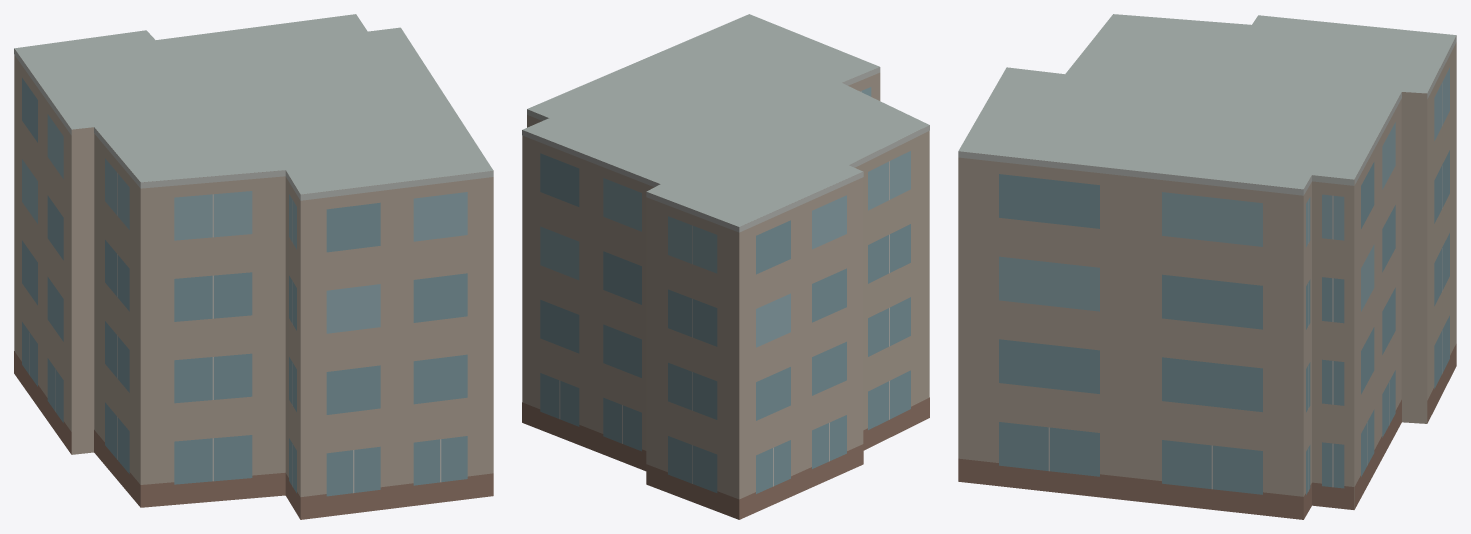
File: survey-upis-32894420.glb
3 renders of one model, left to right at view 1: azimuth 30°, elevation 25°; view 2: azimuth 150°, elevation 25°; view 3: azimuth 270°, elevation 25°, orthographic. The views are drawn at different scales.
Parts seen in each view (by area): view 1: survey-upis-32894420.tmp; view 2: survey-upis-32894420.tmp; view 3: survey-upis-32894420.tmp.
Boxes of the visible parts, x1,y1,x2,y2 form: survey-upis-32894420.tmp: (14,14,493,519); survey-upis-32894420.tmp: (522,14,929,519); survey-upis-32894420.tmp: (958,14,1456,519).
Bounding box in the file's own units: 14.58 × 12.8 × 17.5.
